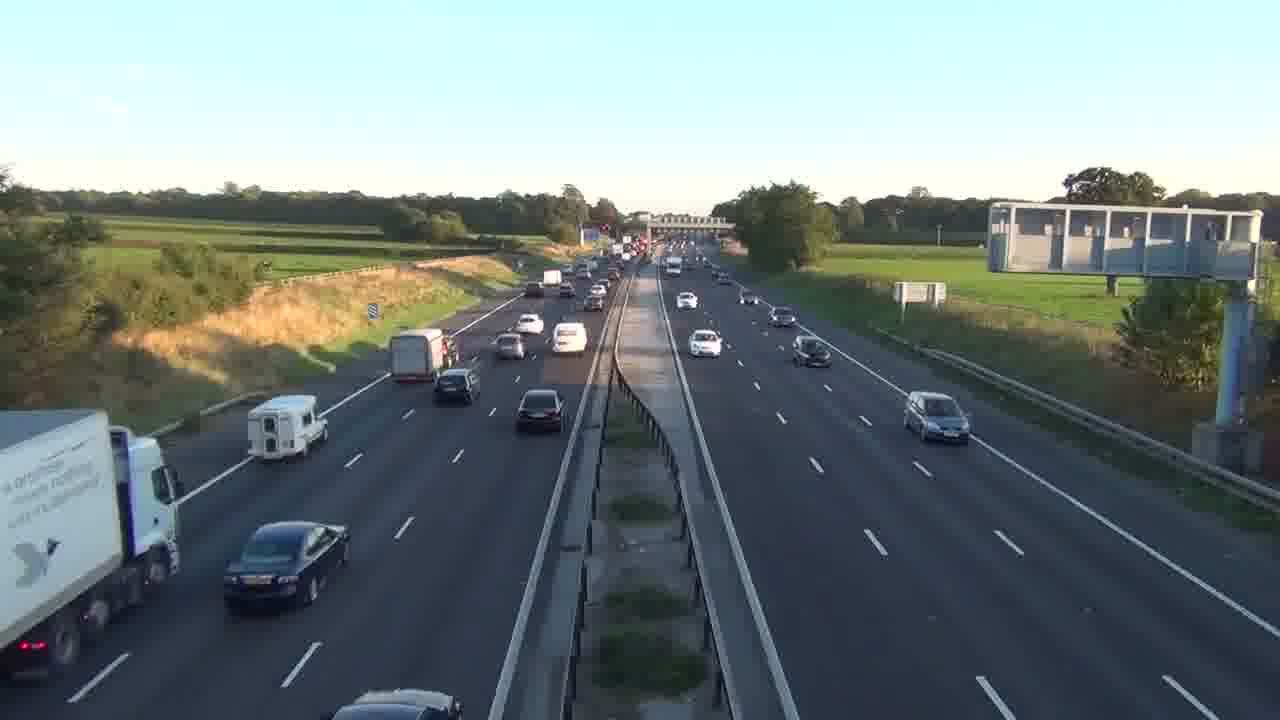car: (329, 687, 464, 719), (903, 390, 971, 445), (514, 388, 565, 433), (432, 368, 479, 405), (792, 335, 832, 368), (551, 321, 588, 356), (493, 332, 531, 360)
truck: (1, 409, 183, 669), (222, 520, 351, 615), (247, 393, 328, 462)
